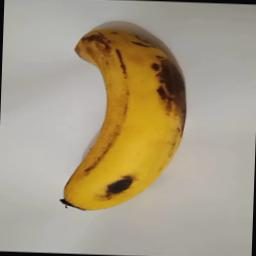Banana Unripe: (48, 22, 191, 216)
